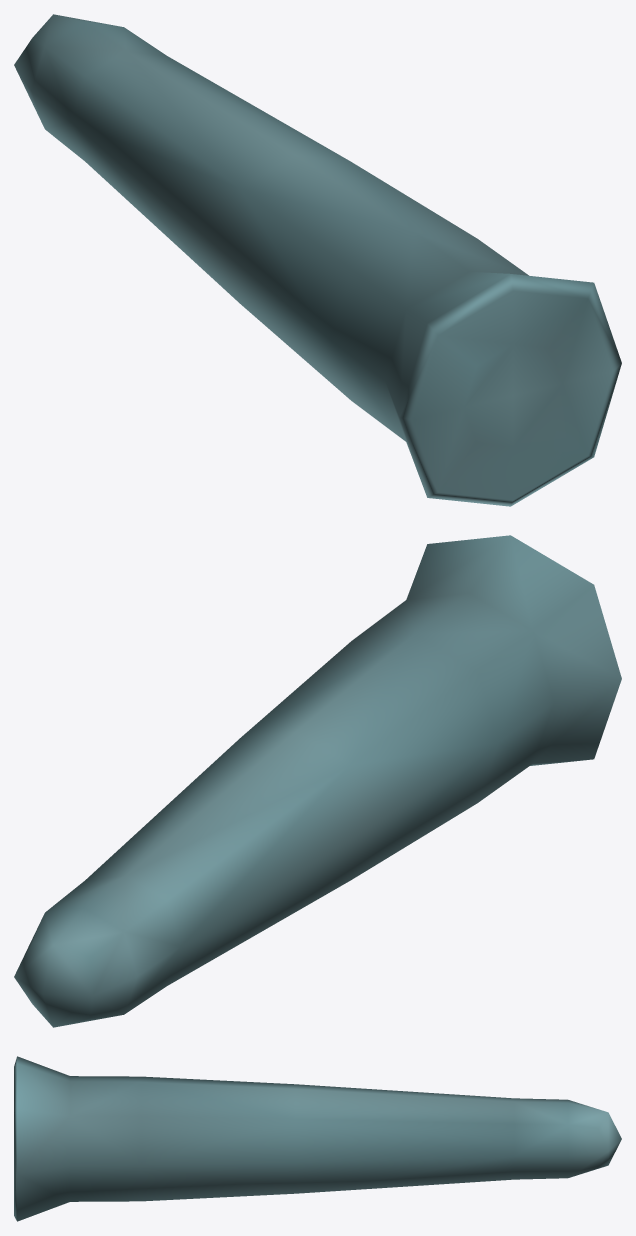
The model's file is TinyStalagmite.004.glb.
3 views of the same model, one above another, from view 1: azimuth 30°, elevation 25°; view 2: azimuth 150°, elevation 25°; view 3: azimuth 270°, elevation 25° (orthographic). The views are drawn at different scales.
Parts seen in each view (by area): view 1: TinyStalagmite.004; view 2: TinyStalagmite.004; view 3: TinyStalagmite.004.
Boxes of the visible parts, x1,y1,x2,y2 form: TinyStalagmite.004: (14,14,621,506); TinyStalagmite.004: (14,535,621,1027); TinyStalagmite.004: (14,1056,621,1221).
Bounding box in the file's own units: 260 × 260 × 951.
